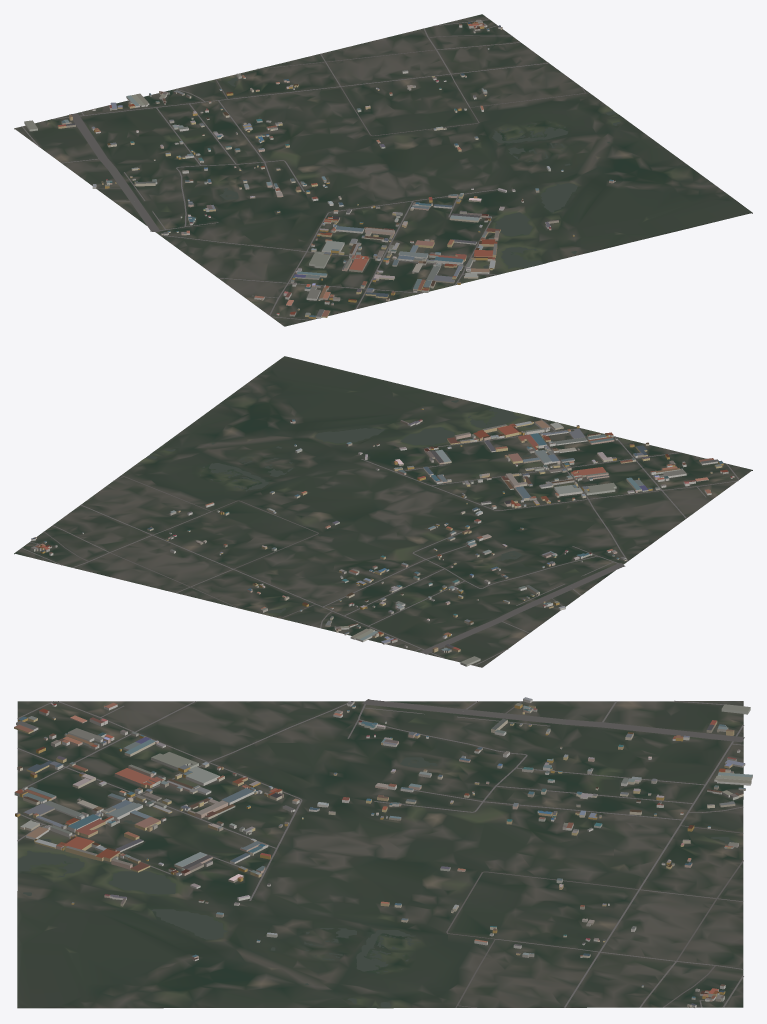
3 views of the same model, one above another, from view 1: azimuth 30°, elevation 25°; view 2: azimuth 150°, elevation 25°; view 3: azimuth 270°, elevation 25° (orthographic). The views are drawn at different scales.
Visible parts, largest first — view 1: ground, buildings, roads, water; view 2: ground, buildings, roads, water; view 3: ground, buildings, roads, water.
Part boxes in pixels (left/top/right/bottom): ground: left=14, top=14, right=752, bottom=326; buildings: left=24, top=19, right=615, bottom=319; roads: left=21, top=19, right=589, bottom=320; water: left=219, top=78, right=620, bottom=268; ground: left=14, top=356, right=752, bottom=667; buildings: left=30, top=408, right=734, bottom=666; roads: left=21, top=418, right=739, bottom=665; water: left=146, top=400, right=560, bottom=613; ground: left=17, top=701, right=743, bottom=1008; buildings: left=14, top=697, right=752, bottom=1007; roads: left=17, top=699, right=744, bottom=1007; water: left=18, top=757, right=734, bottom=1007.
Size of the model in its own units: 1413 by 14.79 by 1427.
